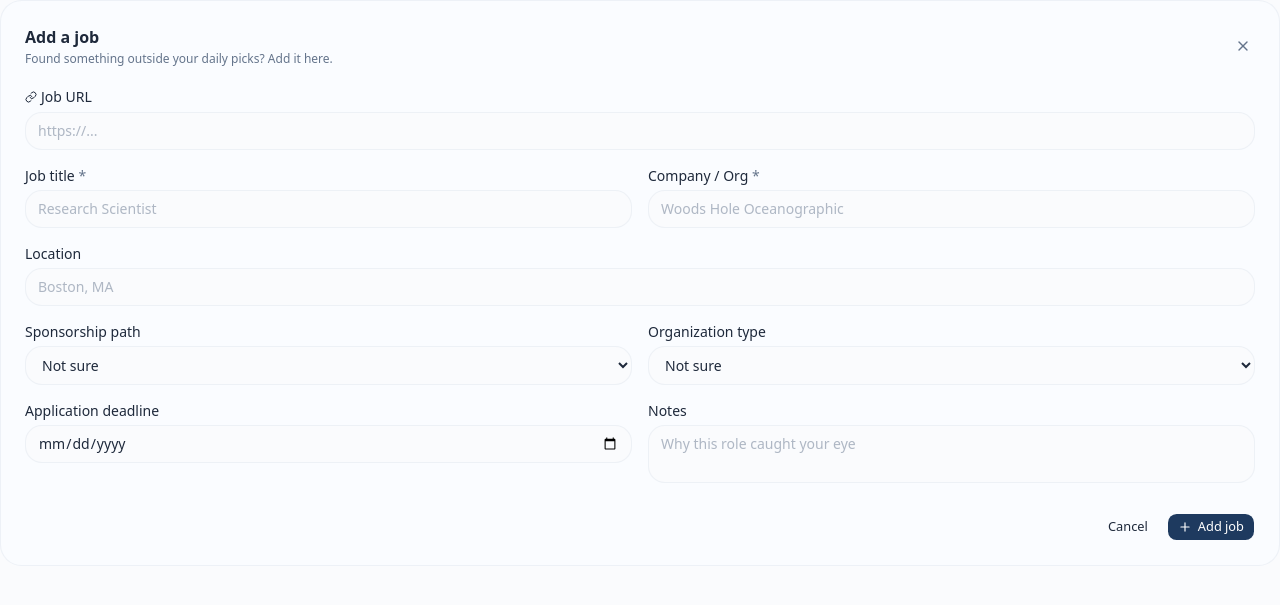
Test: AddJobForm › shows loading state during analysis
The width and height of the screenshot is (1280, 605).
In the field labelled "Job URL": (640, 131) [25,112,1255,150], type "https://whoi.edu/jobs/123"
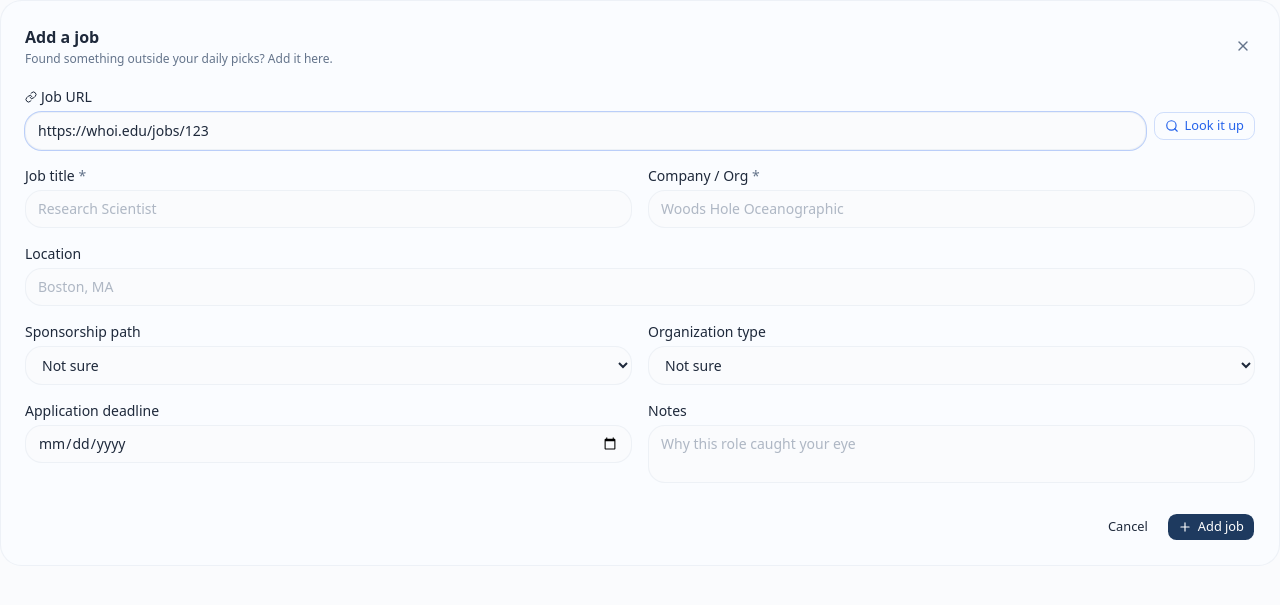
Click the button with aria-label "look up job details": (1204, 126) [1154,112,1255,140]
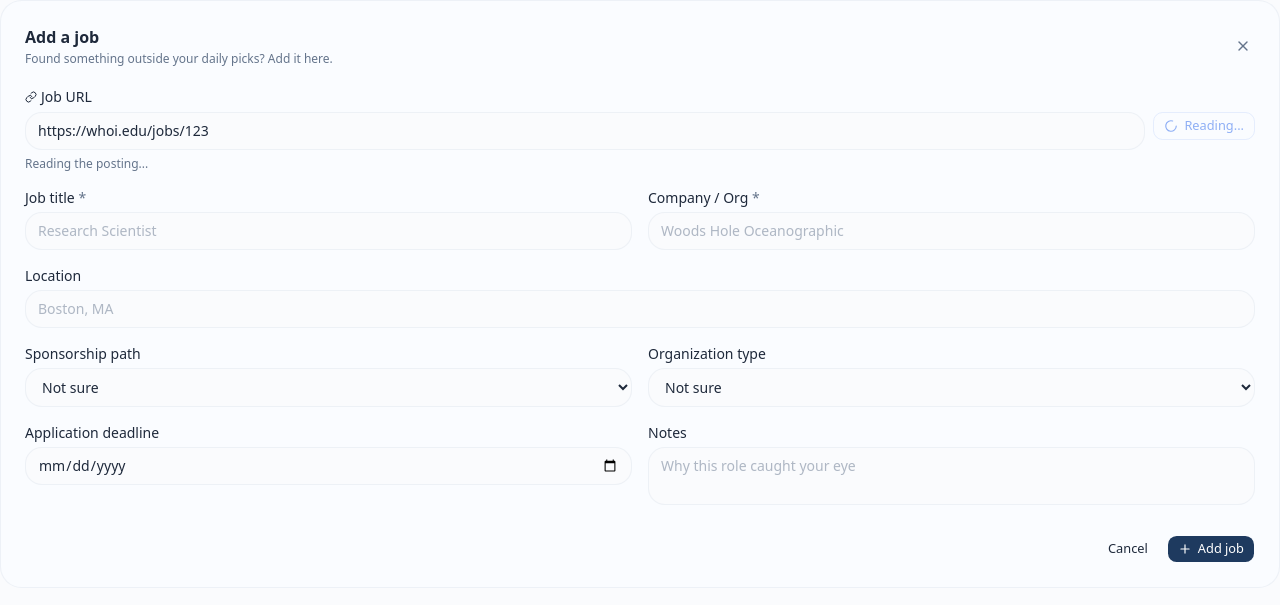
Now the text "Reading..." is shown, box [1184,116,1244,136]
